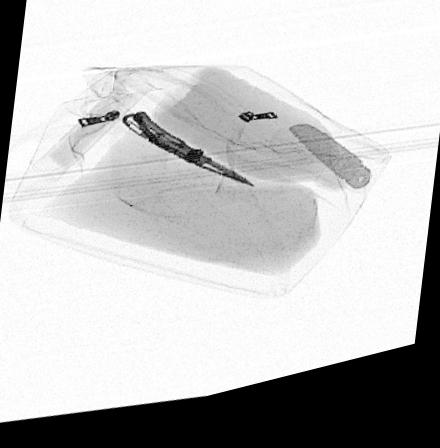Knife: (120, 117, 254, 198), (267, 138, 372, 210)
